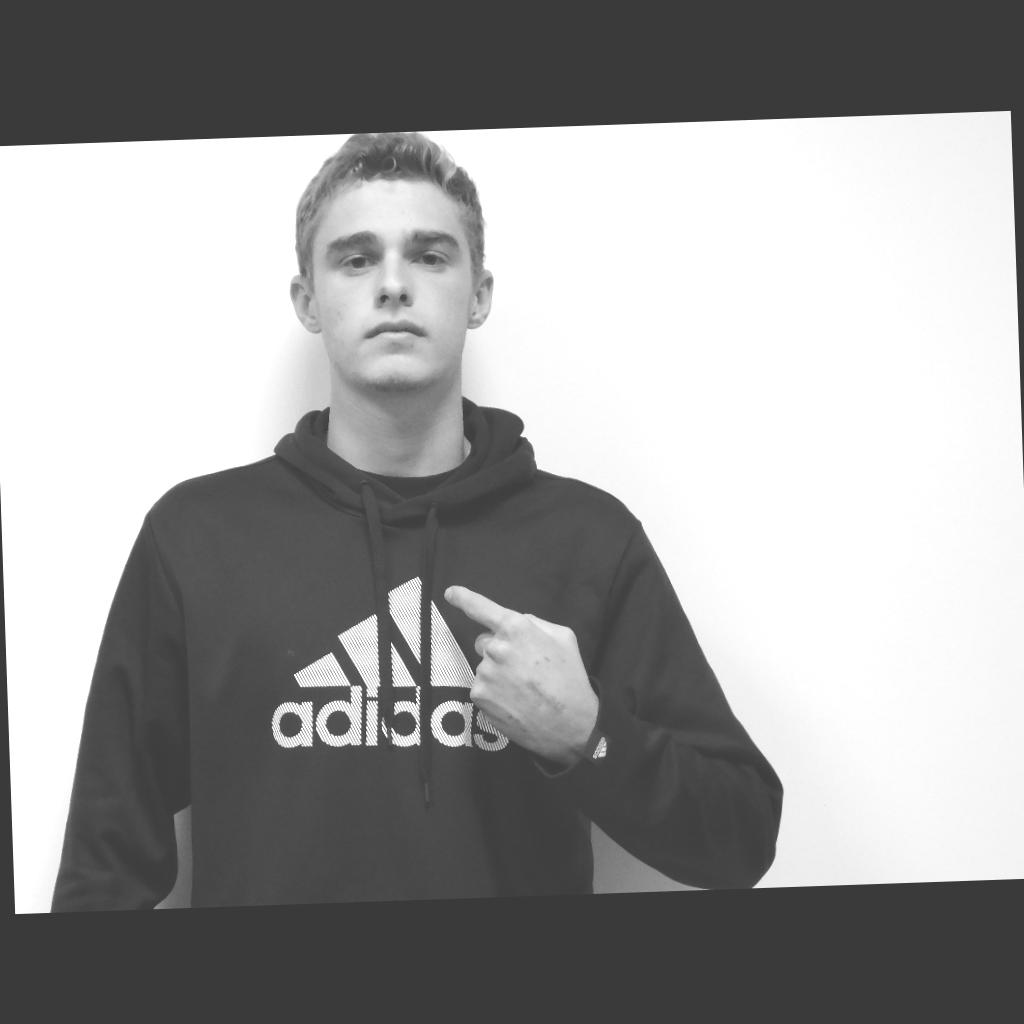I: (442, 581, 594, 761)
